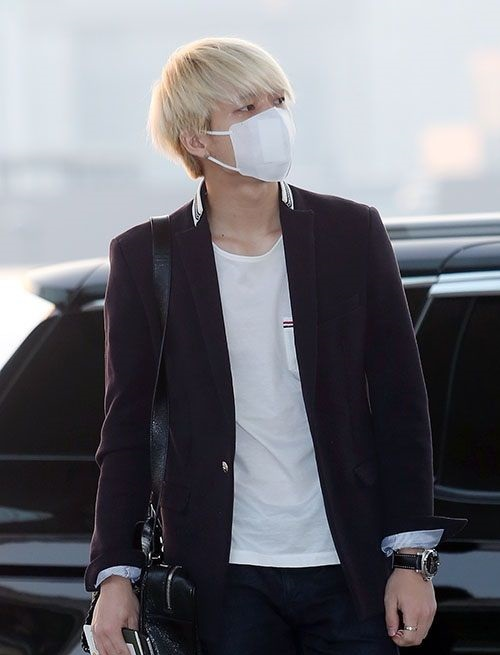face_mask: (208, 67, 292, 188)
